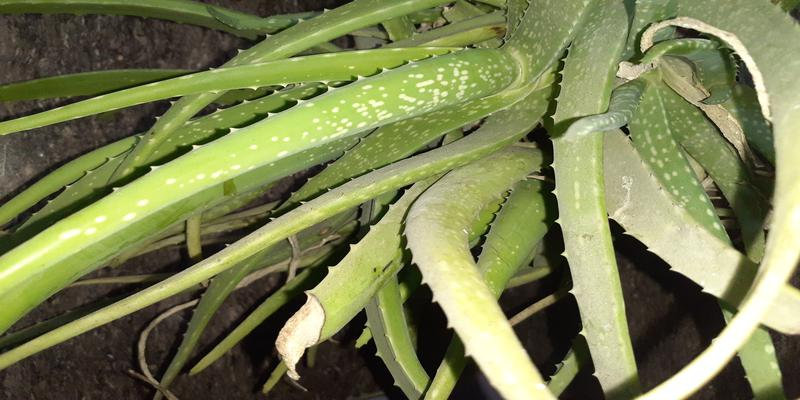Aloevera: (133, 21, 745, 308)
